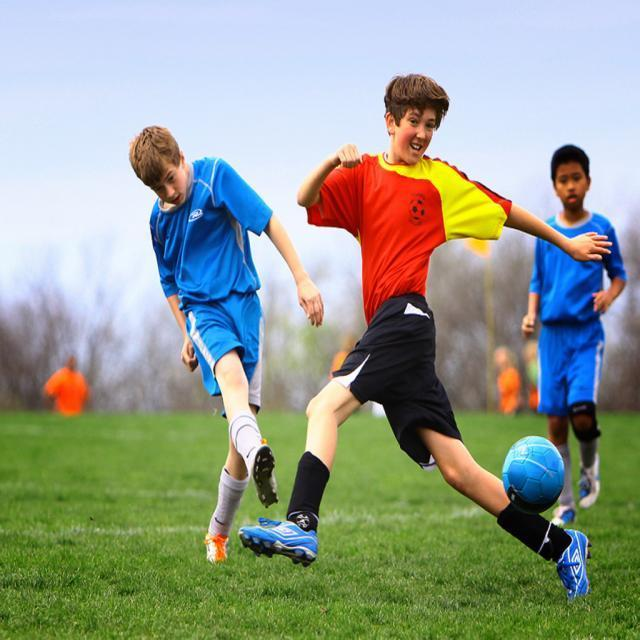football: (487, 421, 578, 520)
